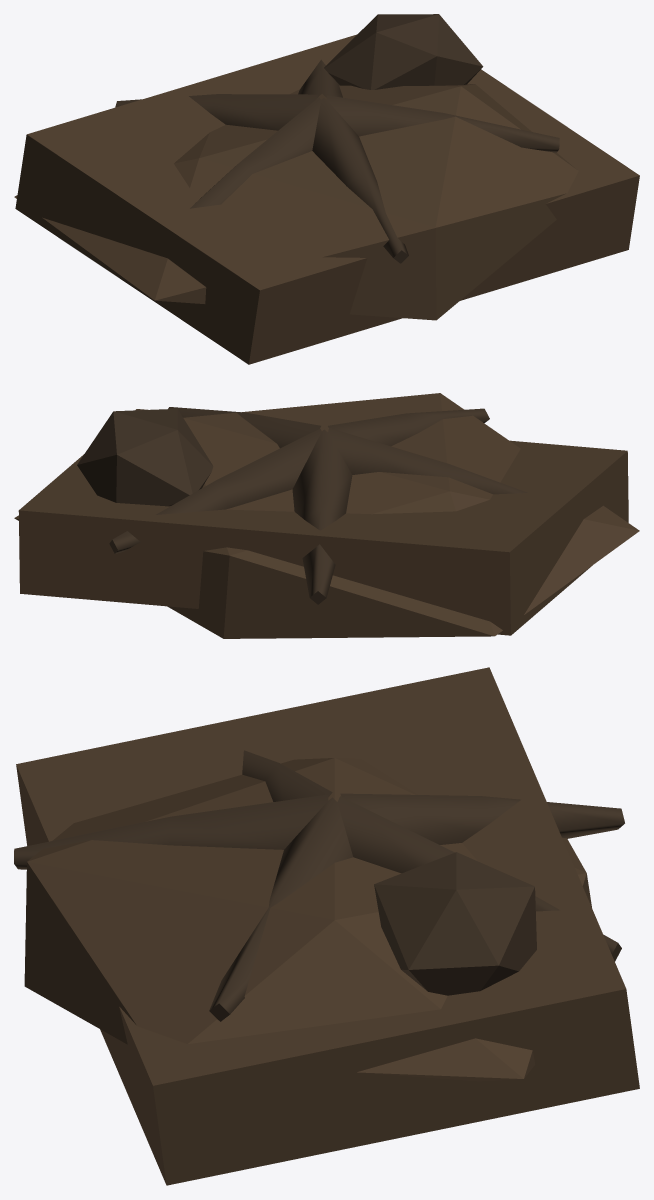
Rendered from land-forest-28.glb.
The picture shows the model from 3 angles, top to bottom: view 1: azimuth 30°, elevation 25°; view 2: azimuth 150°, elevation 25°; view 3: azimuth 270°, elevation 25°; orthographic projection. The views are drawn at different scales.
Visible parts, largest first — view 1: land.forest.28; view 2: land.forest.28; view 3: land.forest.28.
Part boxes in pixels (x1,y1,x2,y2): land.forest.28: (14,14,639,364); land.forest.28: (14,393,639,638); land.forest.28: (14,667,639,1185).
Size of the model in its own units: 2.62 by 0.8993 by 2.12.
